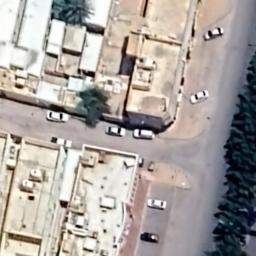sedan: (202, 24, 224, 42), (46, 110, 70, 124), (104, 123, 126, 138), (146, 197, 168, 211), (190, 89, 210, 104), (140, 231, 160, 243)
van: (132, 128, 156, 140), (56, 136, 72, 148)
